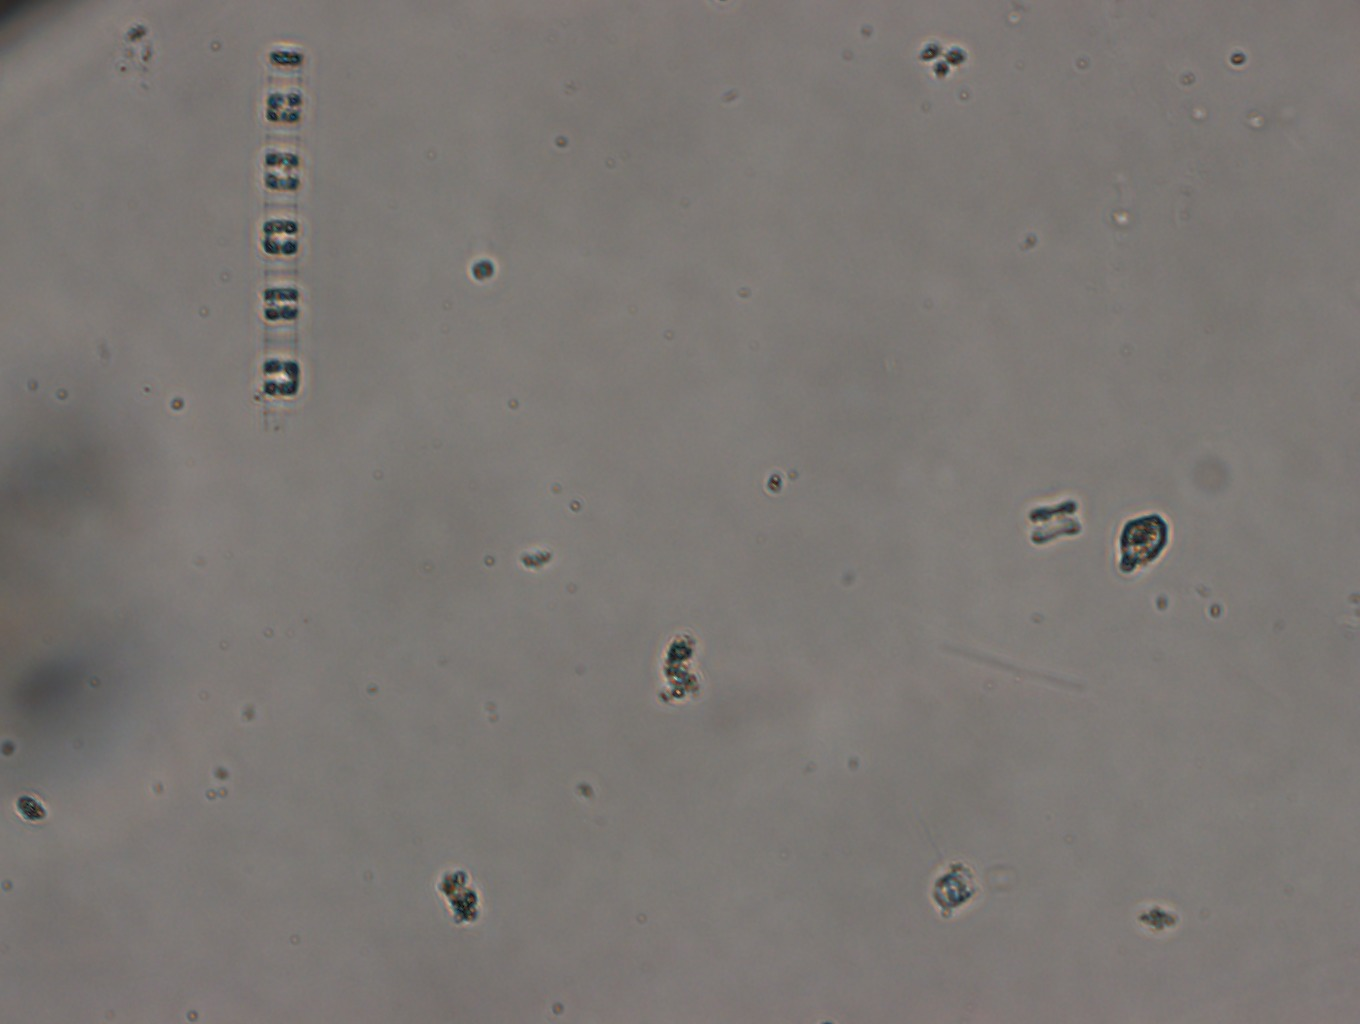skeletonema: (253, 46, 305, 416)
